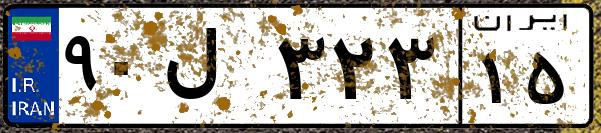0: (110, 28, 158, 98)
1: (475, 38, 525, 113)
2: (330, 28, 385, 110)
3: (270, 28, 330, 110), (385, 28, 445, 110)
5: (525, 38, 570, 115)
9: (57, 26, 110, 100)
ل: (158, 20, 270, 120)
